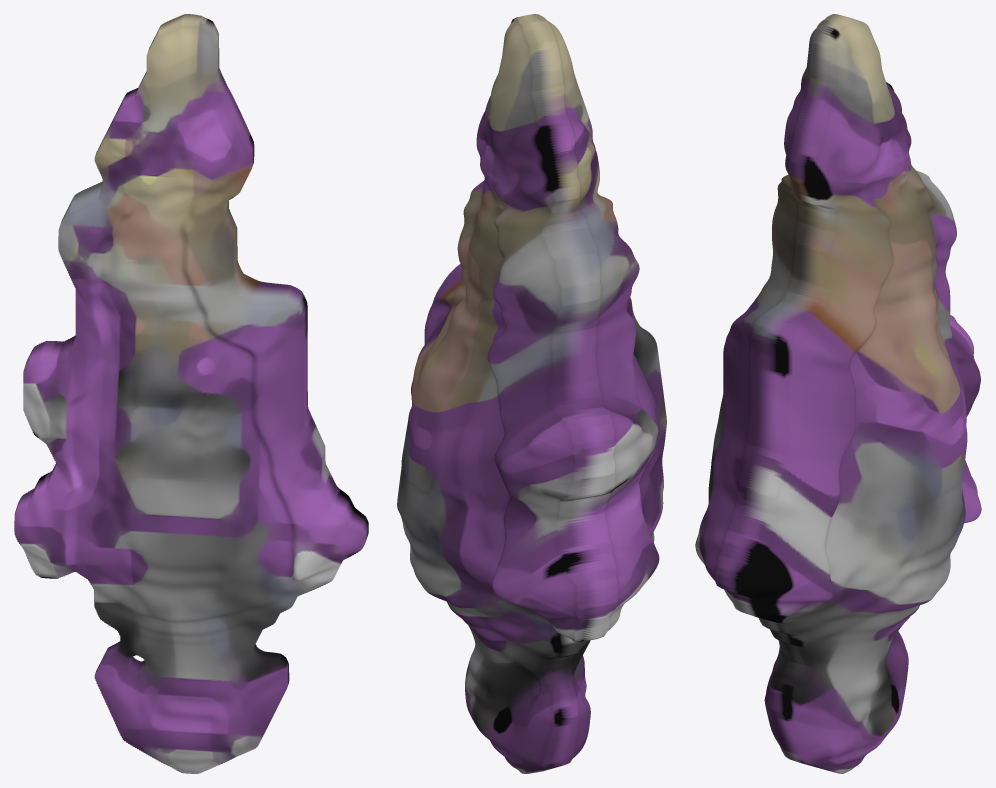
File: yuri_prime.glb
3 views of the same model, side by side, from view 1: azimuth 30°, elevation 25°; view 2: azimuth 150°, elevation 25°; view 3: azimuth 270°, elevation 25° (orthographic).
Parts seen in each view (by area): view 1: yuri_prime; view 2: yuri_prime; view 3: yuri_prime.
Boxes of the visible parts, x1,y1,x2,y2 form: yuri_prime: (14,14,368,773); yuri_prime: (397,14,666,773); yuri_prime: (695,14,981,773).
Bounding box in the file's own units: 0.8344 × 2.23 × 0.7701.
